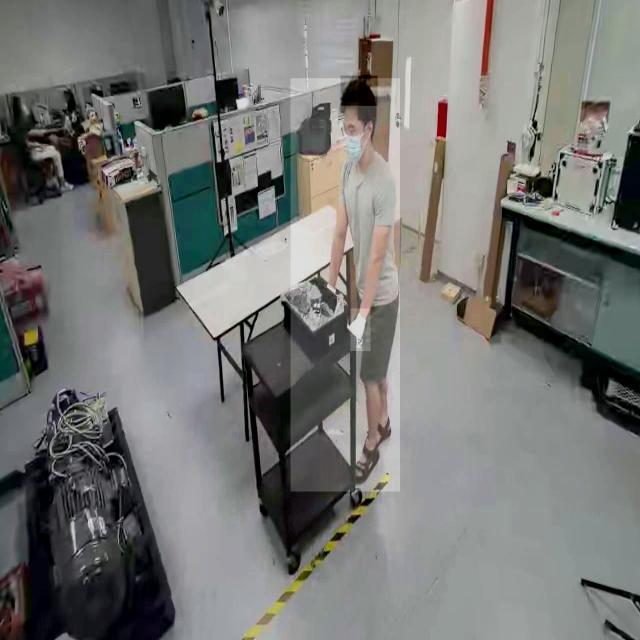face_mask: (339, 121, 368, 162)
hand_glove: (350, 308, 370, 352)
head_nohelmet: (340, 76, 378, 106)
person: (290, 79, 400, 492)
